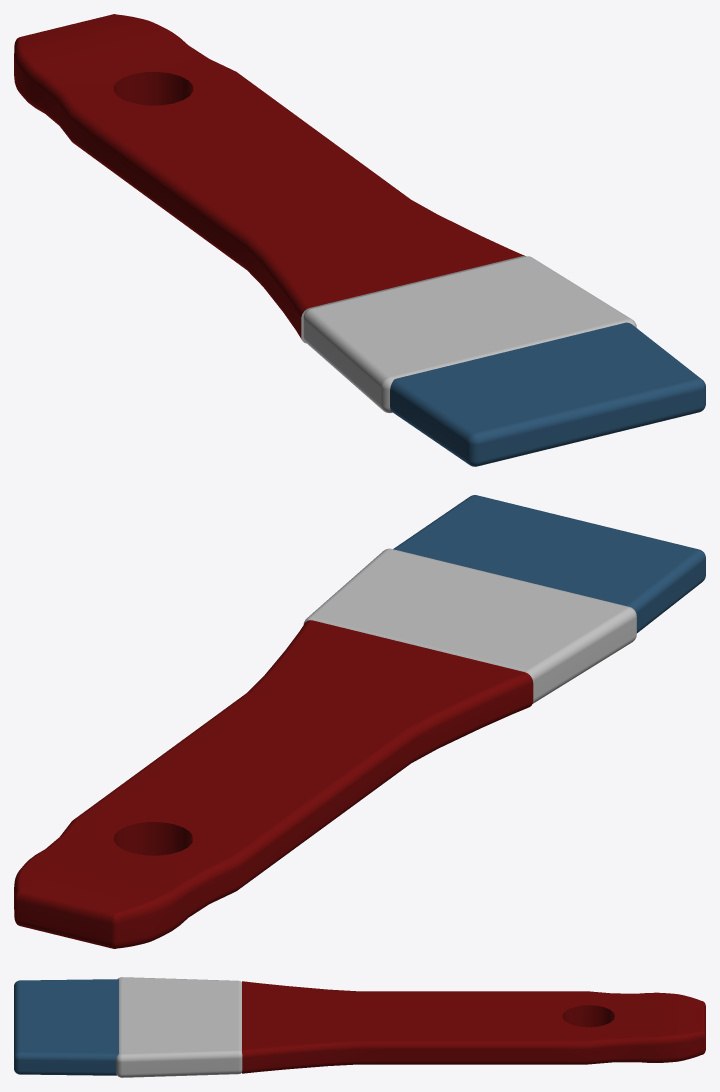
The model's file is paint brush.fbx.
3 views of the same model, one above another, from view 1: azimuth 30°, elevation 25°; view 2: azimuth 150°, elevation 25°; view 3: azimuth 270°, elevation 25° (orthographic). The views are drawn at different scales.
Visible parts, largest first — view 1: handle, pCube2, pCube1; view 2: handle, pCube1, pCube2; view 3: handle, pCube1, pCube2.
Boxes of the visible parts, x1,y1,x2,y2 form: handle: (14,14,525,343); pCube2: (390,322,705,466); pCube1: (303,256,636,412); handle: (14,620,533,948); pCube1: (303,548,636,703); pCube2: (393,495,705,632); handle: (242,981,705,1073); pCube1: (116,977,242,1077); pCube2: (14,979,118,1075).
Size of the model in its own units: 1.5 by 0.2271 by 5.37.
